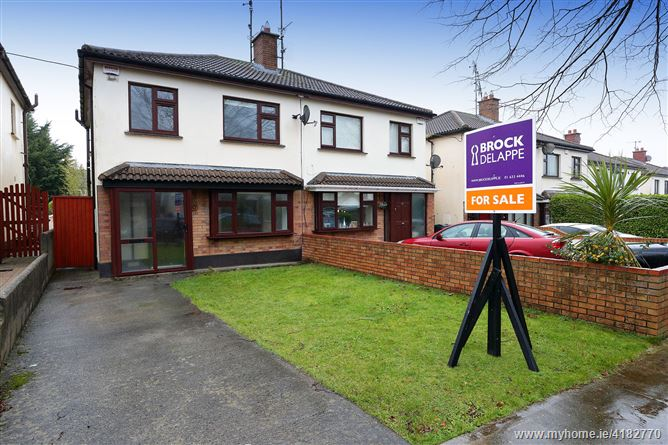property sign: (455, 113, 552, 227)
